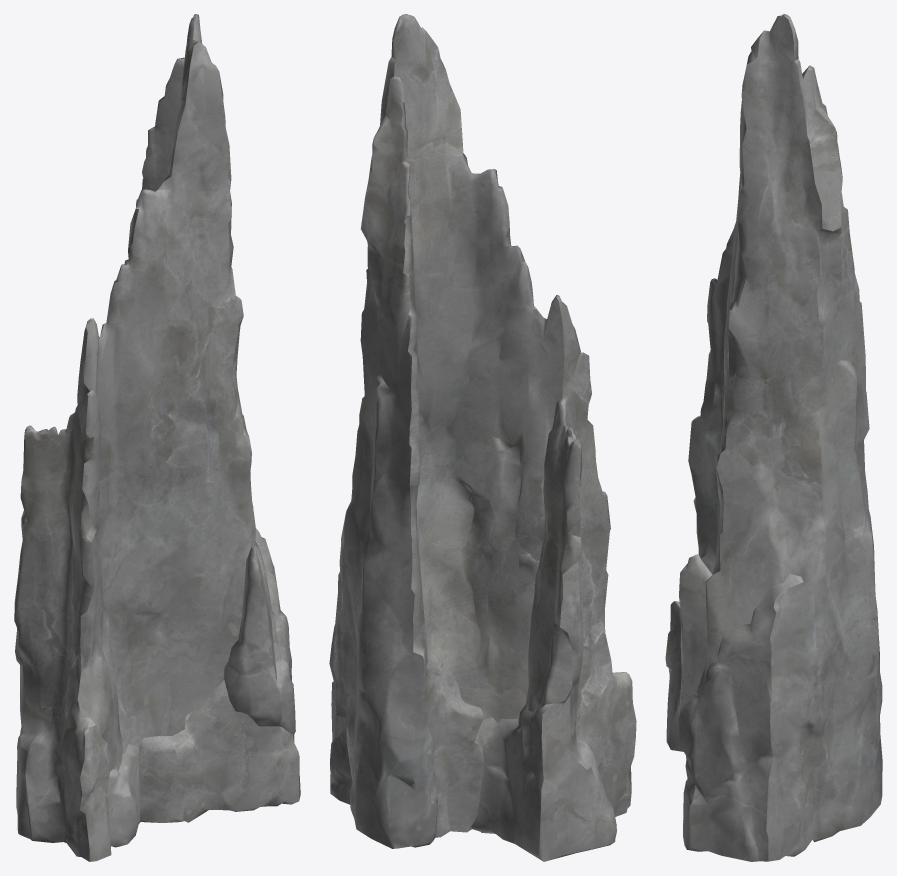
Rendered from SM_Com_Roc_77AL.fbx.
3 views of the same model, side by side, from view 1: azimuth 30°, elevation 25°; view 2: azimuth 150°, elevation 25°; view 3: azimuth 270°, elevation 25° (orthographic). The views are drawn at different scales.
Visible parts, largest first — view 1: SM_Com_Roc_77AL.mo; view 2: SM_Com_Roc_77AL.mo; view 3: SM_Com_Roc_77AL.mo.
Part boxes in pixels (box(x1,y1,x2,y2)): SM_Com_Roc_77AL.mo: box(14, 14, 300, 861); SM_Com_Roc_77AL.mo: box(329, 14, 636, 861); SM_Com_Roc_77AL.mo: box(665, 14, 882, 861).
Size of the model in its own units: 73.87 by 201 by 48.7.
